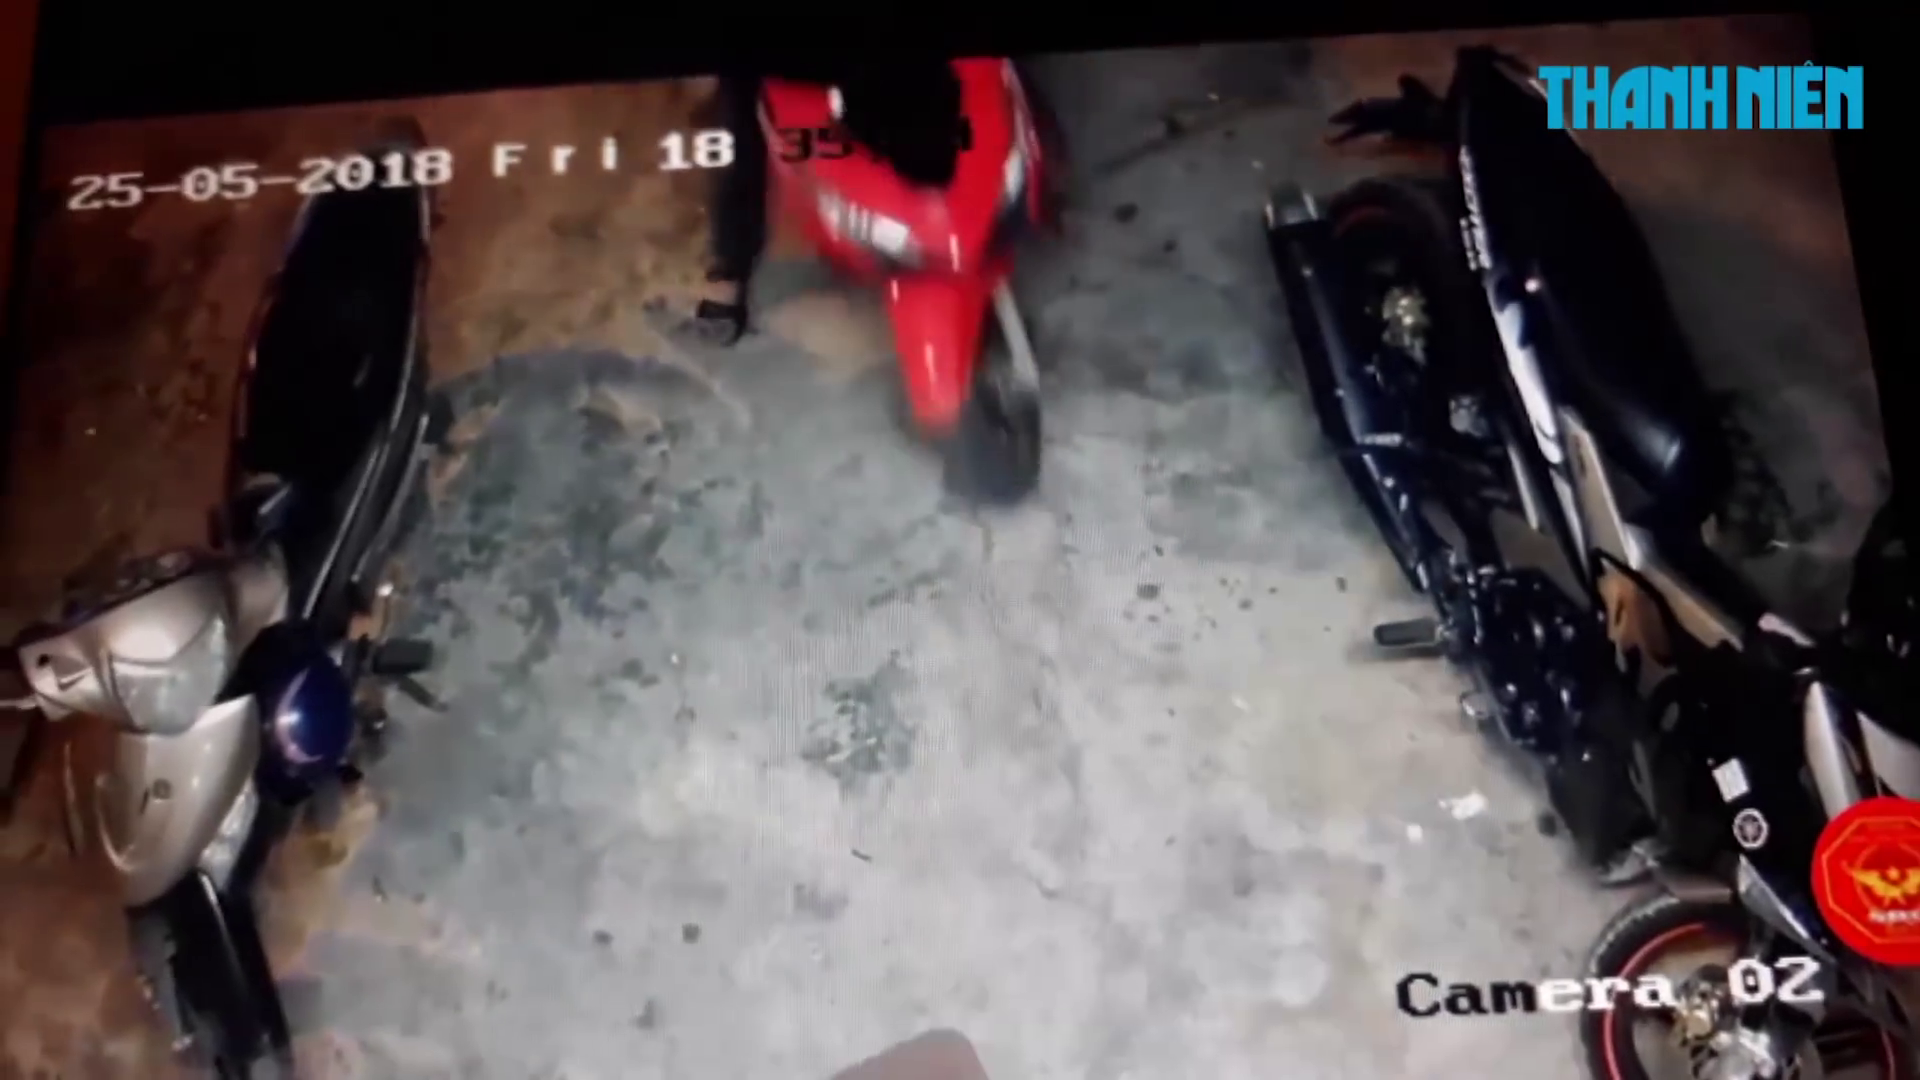Motorcycle: (1257, 42, 1919, 1062), (746, 50, 1067, 501)
